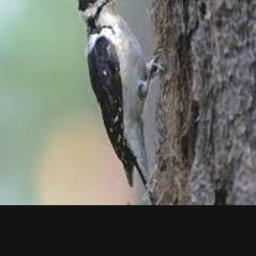Woodpecker: (64, 0, 163, 198)
